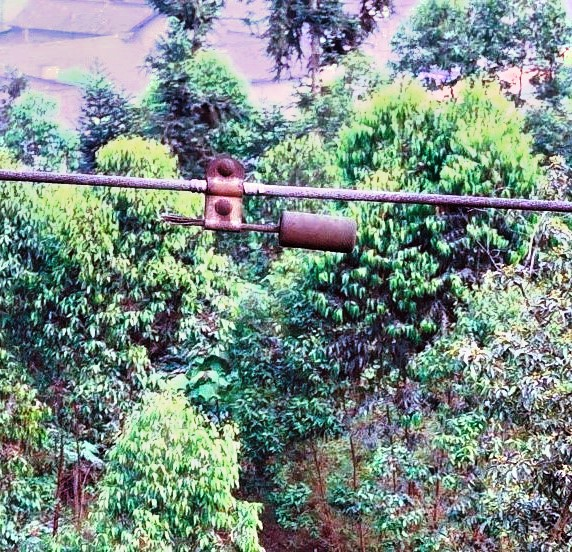Damage of shockproof hammer: (151, 151, 367, 256)
